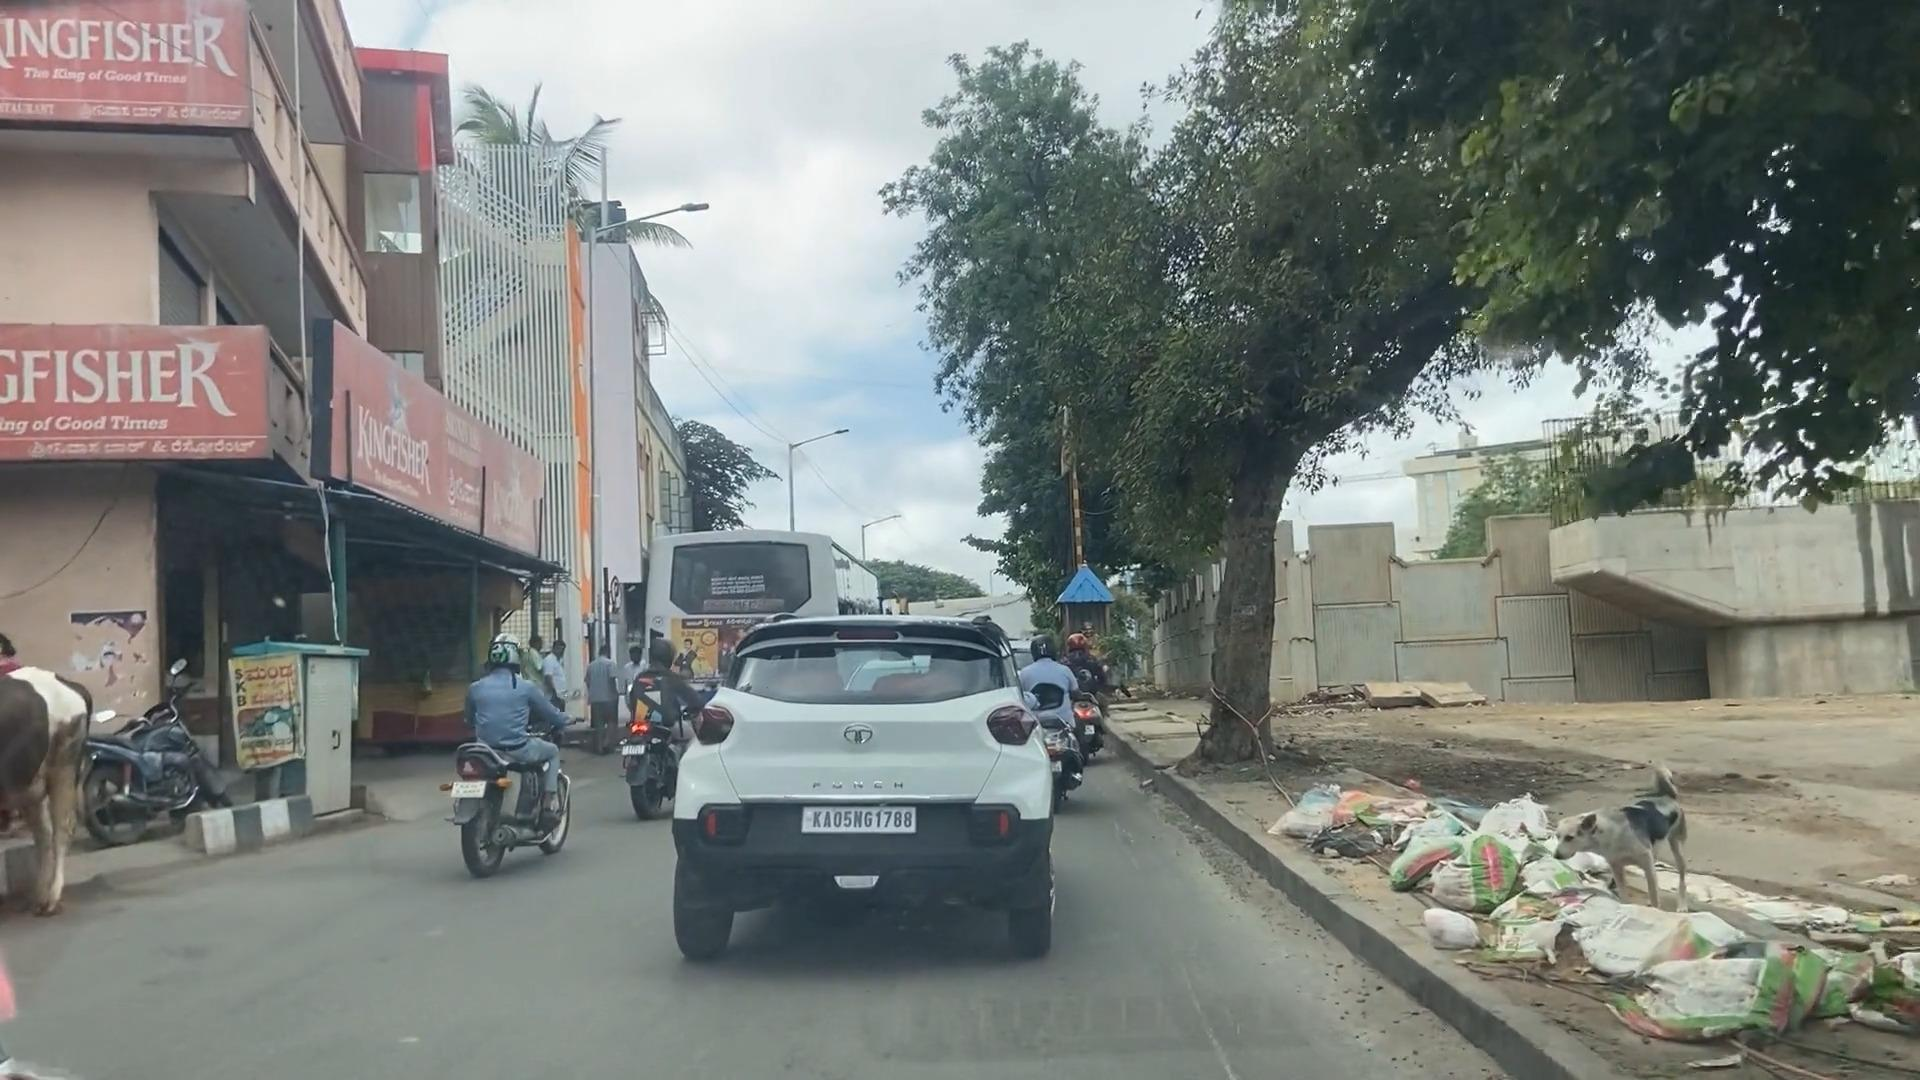LMV: (698, 618, 1014, 964), (446, 628, 567, 878)
